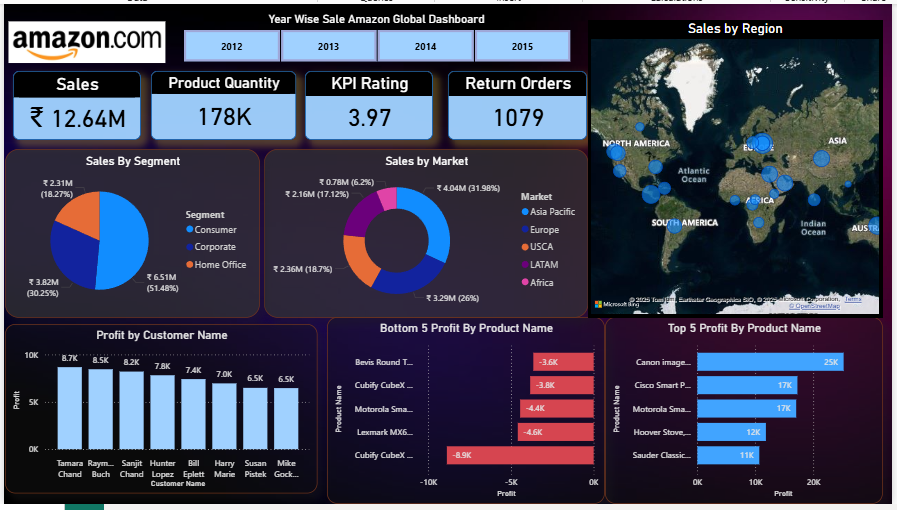

The page's visual inventory and layout, read from the dashboard file:
{"tool":"powerbi","page":{"name":"Dashboard","canvas":[1280,720],"ordinal":0},"visuals":[{"type":"image","box":[1.4,0,236.2,110.9],"z":0},{"type":"slicer","title":"Year Wise Sale Amazon Global Dashboard","fields":{"Values":["Orders.Year"]},"box":[233.3,11.5,606.2,77.8],"z":1000},{"type":"card","title":"Sales","fields":{"Values":["Sum(Orders.Sales)"]},"box":[12.9,97.1,184.3,98.6],"z":2000},{"type":"card","title":"Product Quantity","fields":{"Values":["Sum(Orders.Quantity)"]},"box":[211.7,96.5,208.8,99.4],"z":3000},{"type":"card","title":"KPI Rating","fields":{"Values":["Avg(Orders.Delivery Days)"]},"box":[433.4,96.5,184.3,99.4],"z":4000},{"type":"card","title":"Return Orders","fields":{"Values":["Sum(Returns.Return Order)"]},"box":[639.4,96.5,200.2,99.4],"z":5000},{"type":"donutChart","fields":{"Y":["Sum(Orders.Sales)"],"Category":["Orders.Market"]},"box":[374.3,208.6,467.1,242.9],"z":6000},{"type":"pieChart","title":"Sales By Segment","fields":{"Y":["Sum(Orders.Sales)"],"Category":["Orders.Segment"]},"box":[1.4,208.6,367.1,242.9],"z":7000},{"type":"columnChart","fields":{"Y":["Sum(Orders.Profit)"],"Category":["Orders.Customer Name"]},"box":[1.4,461.4,450,244.3],"z":8000},{"type":"barChart","title":"Bottom 5 Profit By Product Name","fields":{"Category":["Orders.Product Name"],"Y":["Sum(Orders.Profit)"]},"box":[465.7,451.4,400,268.6],"z":9000},{"type":"barChart","title":"Top 5 Profit By Product Name","fields":{"Category":["Orders.Product Name"],"Y":["Sum(Orders.Profit)"]},"box":[865.7,450,400,268.6],"z":10000},{"type":"map","fields":{"Category":["Orders.Region"],"Size":["Sum(Orders.Sales)"]},"box":[841.4,22.9,424.3,428.6],"z":11000}]}

Visuals, with their boxes in screenshot pixels (x1, y1, x2, y2), scaled from the page's 1280x720 canvas onto the 897x510 screenshot:
image: rect(1, 0, 167, 79)
"Year Wise Sale Amazon Global Dashboard" slicer: rect(163, 8, 588, 63)
"Sales" card: rect(9, 69, 138, 139)
"Product Quantity" card: rect(148, 68, 295, 139)
"KPI Rating" card: rect(304, 68, 433, 139)
"Return Orders" card: rect(448, 68, 588, 139)
donutChart - Sum(Orders.Sales) x Orders.Market: rect(262, 148, 590, 320)
"Sales By Segment" pieChart: rect(1, 148, 258, 320)
columnChart - Sum(Orders.Profit) x Orders.Customer Name: rect(1, 327, 316, 500)
"Bottom 5 Profit By Product Name" barChart: rect(326, 320, 607, 509)
"Top 5 Profit By Product Name" barChart: rect(607, 319, 887, 509)
map - Orders.Region x Sum(Orders.Sales): rect(590, 16, 887, 320)
